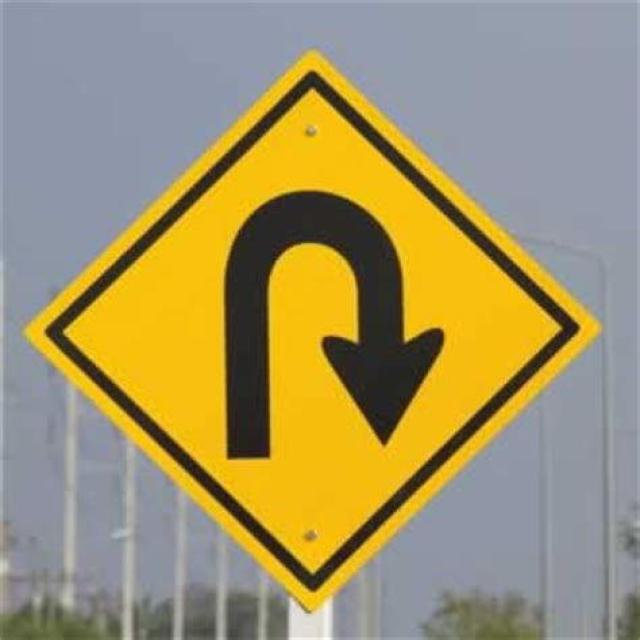Uturn: (24, 49, 594, 606)
